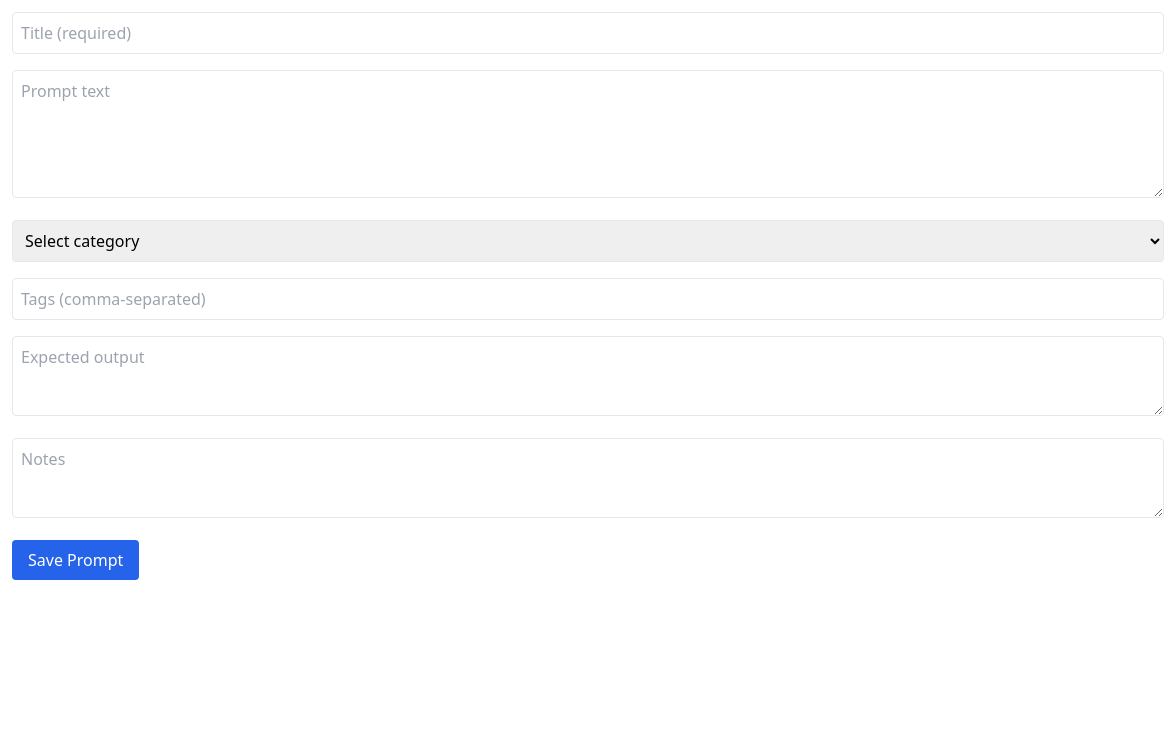
Test: PromptForm › requires title field to be filled
This screenshot has width=1176, height=732.
Click the button with test id "save-prompt-button": coordinates (76, 560) [12,540,139,580]
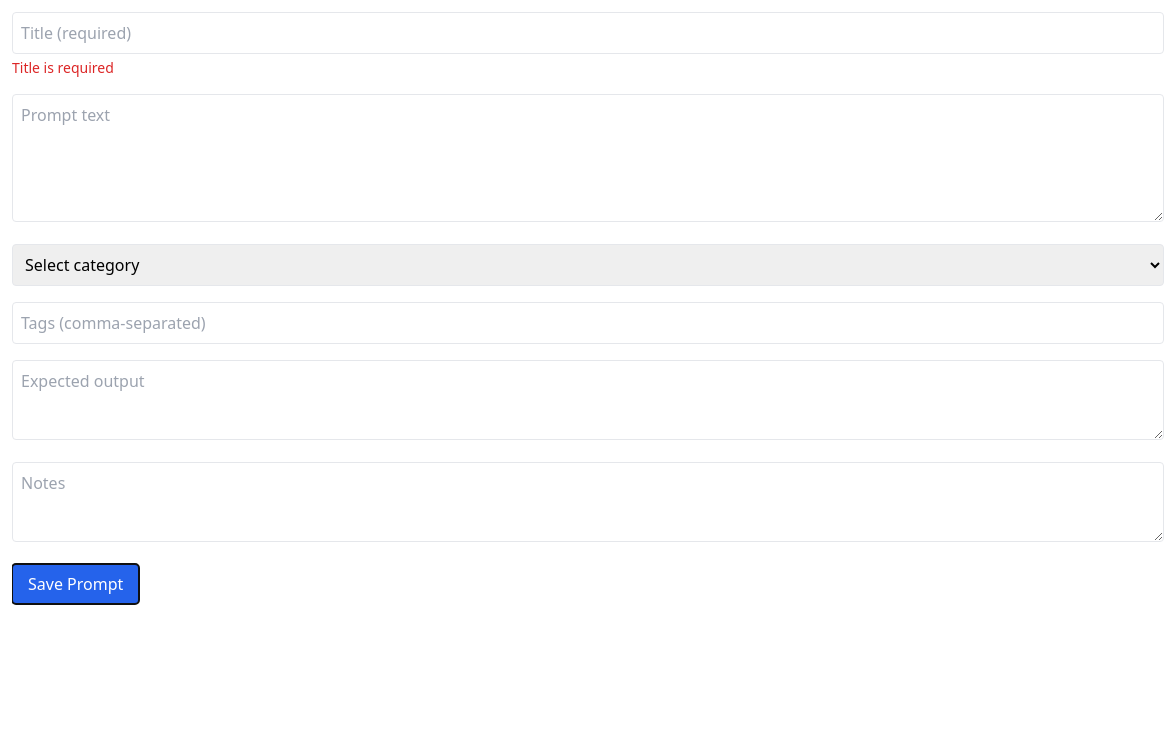
Now the text "Title is required" is shown, box [12,58,114,77]
